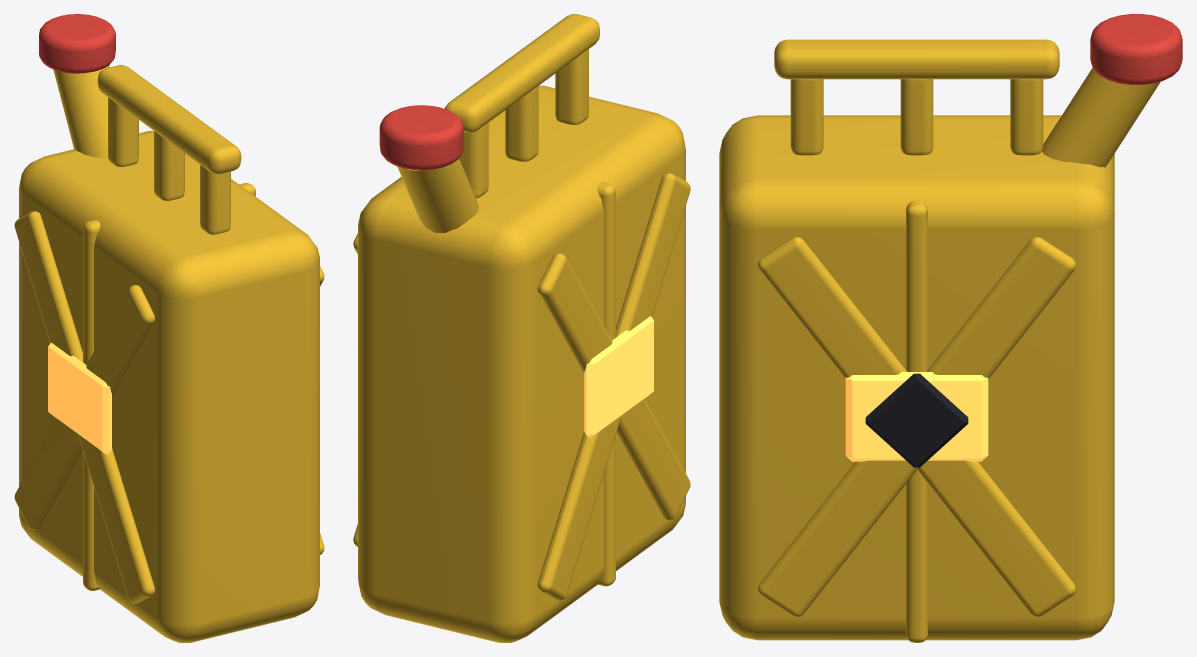
The model's file is gas_can.glb.
3 views of the same model, side by side, from view 1: azimuth 30°, elevation 25°; view 2: azimuth 150°, elevation 25°; view 3: azimuth 270°, elevation 25° (orthographic). The views are drawn at different scales.
Parts seen in each view (by area): view 1: gas_can; view 2: gas_can; view 3: gas_can.
Boxes of the visible parts, x1,y1,x2,y2 form: gas_can: (14, 14, 324, 642); gas_can: (353, 14, 690, 642); gas_can: (719, 14, 1182, 642).
Size of the model in its own units: 0.243 by 0.58 by 0.422.
Materials: 1 (1 with a texture image).
